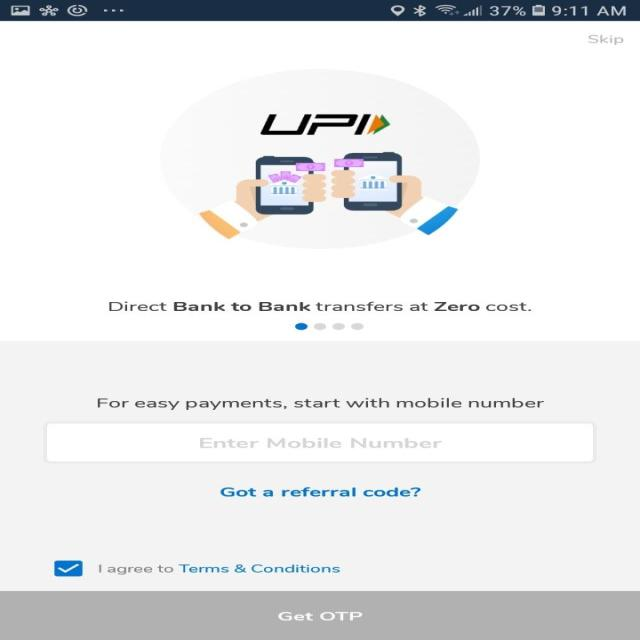EditText: (42, 422, 596, 464)
Image: (159, 68, 481, 250)
Text: (97, 398, 544, 410), (109, 300, 532, 311), (199, 437, 442, 448), (98, 564, 340, 574), (220, 486, 420, 496), (586, 34, 624, 46)
TextButton: (0, 590, 639, 640)
